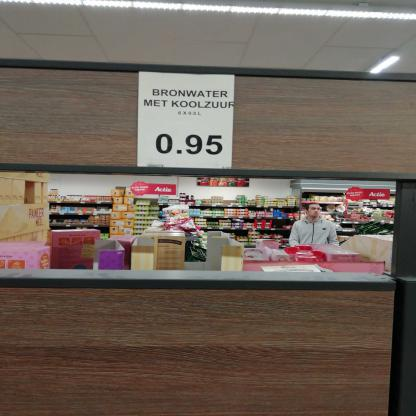prtg: (138, 72, 237, 171)
